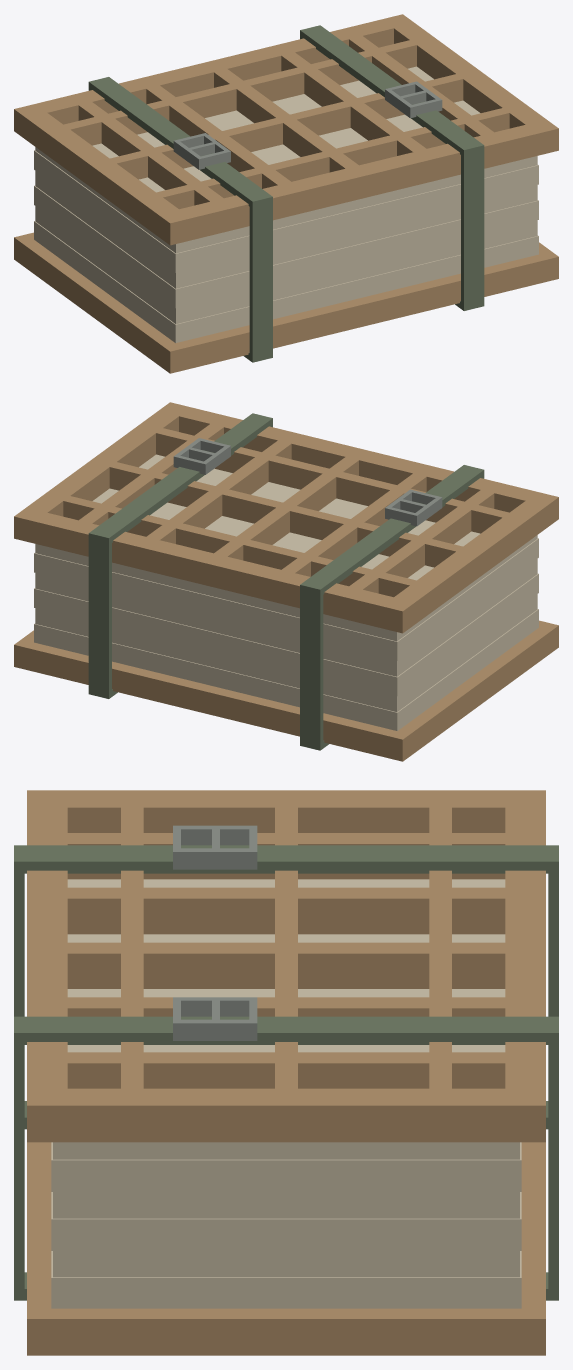
The picture shows the model from 3 angles, top to bottom: view 1: azimuth 30°, elevation 25°; view 2: azimuth 150°, elevation 25°; view 3: azimuth 270°, elevation 25°; orthographic projection. The views are drawn at different scales.
Parts seen in each view (by area): view 1: WholeUpperOpenLatticePressBoard, WholeLowerOpenLatticePressBoard, WholeBlankPressFillerLayer2, WholeBlankPressFillerLayer4, WholeBlankPressFillerLayer0, WholeBlankPressFillerLayer5, WholeBlankPressFillerLayer1, WholeBlankPressFillerLayer3, WholeContinuousBroadWrapStrap1, WholeContinuousBroadWrapStrap0, WholeRectangularTwinWindowBuckle1, WholeRectangularTwinWindowBuckle0; view 2: WholeUpperOpenLatticePressBoard, WholeLowerOpenLatticePressBoard, WholeBlankPressFillerLayer2, WholeBlankPressFillerLayer4, WholeBlankPressFillerLayer0, WholeBlankPressFillerLayer5, WholeBlankPressFillerLayer1, WholeBlankPressFillerLayer3, WholeContinuousBroadWrapStrap1, WholeContinuousBroadWrapStrap0, WholeRectangularTwinWindowBuckle0, WholeRectangularTwinWindowBuckle1; view 3: WholeUpperOpenLatticePressBoard, WholeLowerOpenLatticePressBoard, WholeBlankPressFillerLayer5, WholeContinuousBroadWrapStrap1, WholeContinuousBroadWrapStrap0, WholeBlankPressFillerLayer2, WholeBlankPressFillerLayer4, WholeBlankPressFillerLayer0, WholeBlankPressFillerLayer1, WholeBlankPressFillerLayer3, WholeRectangularTwinWindowBuckle0, WholeRectangularTwinWindowBuckle1.
Boxes of the visible parts, x1=… form: WholeUpperOpenLatticePressBoard: x1=14, y1=14, x2=558, y2=245; WholeLowerOpenLatticePressBoard: x1=14, y1=232, x2=558, y2=373; WholeBlankPressFillerLayer2: x1=34, y1=185, x2=538, y2=308; WholeBlankPressFillerLayer4: x1=34, y1=150, x2=538, y2=272; WholeBlankPressFillerLayer0: x1=34, y1=221, x2=538, y2=342; WholeBlankPressFillerLayer5: x1=35, y1=66, x2=537, y2=253; WholeBlankPressFillerLayer1: x1=35, y1=206, x2=537, y2=323; WholeBlankPressFillerLayer3: x1=35, y1=171, x2=537, y2=288; WholeContinuousBroadWrapStrap1: x1=300, y1=25, x2=484, y2=310; WholeContinuousBroadWrapStrap0: x1=88, y1=77, x2=272, y2=362; WholeRectangularTwinWindowBuckle1: x1=385, y1=81, x2=442, y2=118; WholeRectangularTwinWindowBuckle0: x1=173, y1=133, x2=230, y2=169; WholeUpperOpenLatticePressBoard: x1=14, y1=402, x2=558, y2=633; WholeLowerOpenLatticePressBoard: x1=14, y1=620, x2=558, y2=761; WholeBlankPressFillerLayer2: x1=34, y1=573, x2=538, y2=696; WholeBlankPressFillerLayer4: x1=34, y1=538, x2=538, y2=660; WholeBlankPressFillerLayer0: x1=34, y1=609, x2=538, y2=730; WholeBlankPressFillerLayer5: x1=35, y1=454, x2=537, y2=641; WholeBlankPressFillerLayer1: x1=35, y1=594, x2=537, y2=711; WholeBlankPressFillerLayer3: x1=35, y1=559, x2=537, y2=676; WholeContinuousBroadWrapStrap1: x1=88, y1=413, x2=272, y2=698; WholeContinuousBroadWrapStrap0: x1=300, y1=465, x2=484, y2=750; WholeRectangularTwinWindowBuckle0: x1=385, y1=489, x2=442, y2=526; WholeRectangularTwinWindowBuckle1: x1=173, y1=438, x2=230, y2=474; WholeUpperOpenLatticePressBoard: x1=27, y1=790, x2=545, y2=1142; WholeLowerOpenLatticePressBoard: x1=27, y1=1142, x2=545, y2=1355; WholeBlankPressFillerLayer5: x1=53, y1=879, x2=519, y2=1159; WholeContinuousBroadWrapStrap1: x1=14, y1=1016, x2=558, y2=1300; WholeContinuousBroadWrapStrap0: x1=14, y1=845, x2=558, y2=1129; WholeBlankPressFillerLayer2: x1=51, y1=1192, x2=521, y2=1250; WholeBlankPressFillerLayer4: x1=51, y1=1142, x2=521, y2=1191; WholeBlankPressFillerLayer0: x1=51, y1=1251, x2=521, y2=1308; WholeBlankPressFillerLayer1: x1=53, y1=1251, x2=519, y2=1277; WholeBlankPressFillerLayer3: x1=53, y1=1192, x2=519, y2=1218; WholeRectangularTwinWindowBuckle0: x1=173, y1=825, x2=257, y2=869; WholeRectangularTwinWindowBuckle1: x1=173, y1=997, x2=257, y2=1040.
Bounding box in the file's own units: 0.46 × 0.192 × 0.336.
